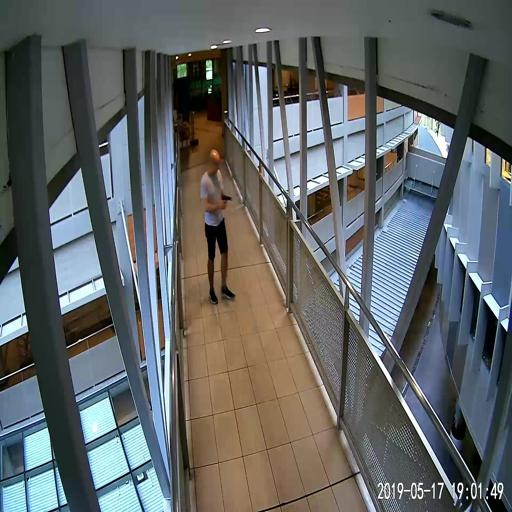pistol: (221, 192, 231, 207)
